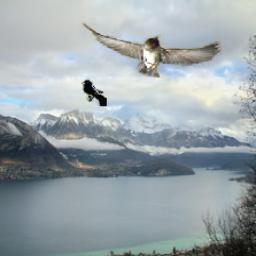Crow: (82, 81, 107, 107)
Swallow: (79, 22, 222, 79)
